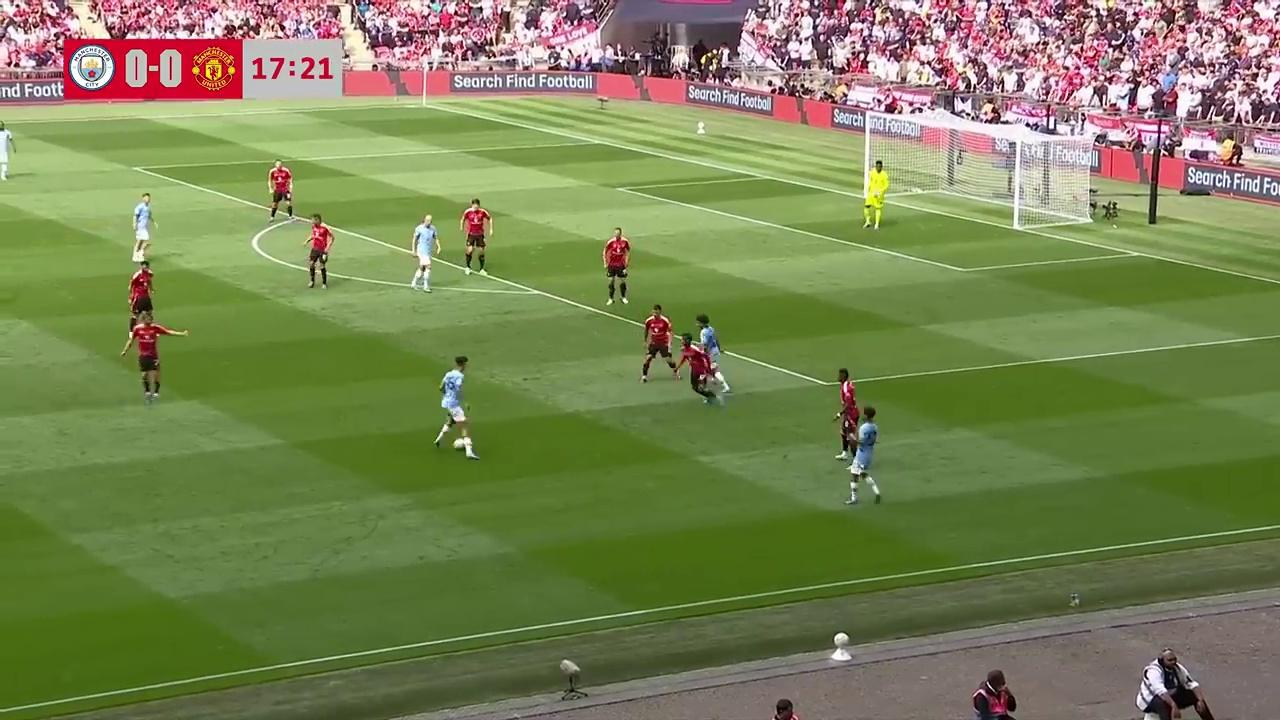player: (433, 355, 479, 455), (121, 310, 166, 404), (842, 407, 882, 505), (682, 334, 730, 407), (639, 303, 676, 384), (832, 368, 863, 454), (301, 213, 334, 289), (459, 198, 491, 273), (410, 213, 439, 292), (123, 261, 155, 331), (695, 314, 728, 381), (602, 227, 630, 305), (862, 160, 888, 230), (132, 193, 158, 259), (267, 160, 294, 222), (0, 124, 15, 180)
